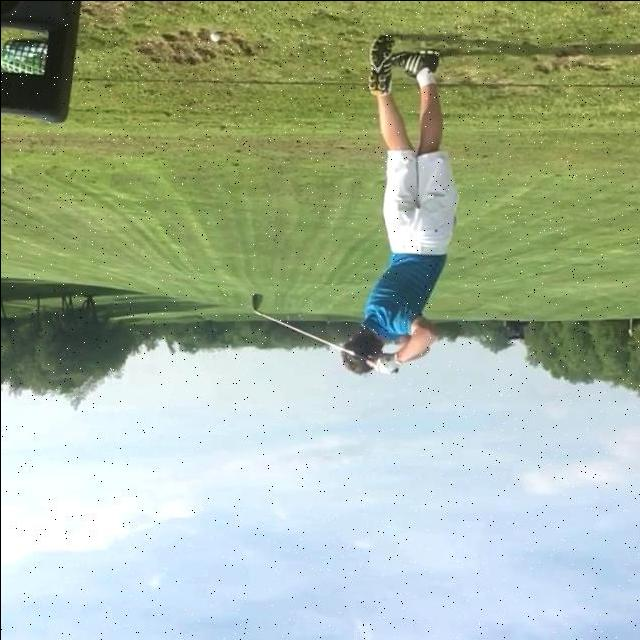ClubHandle: (249, 290, 399, 373)
ClubHead: (249, 293, 262, 310)
GolfBall: (208, 31, 220, 41)
